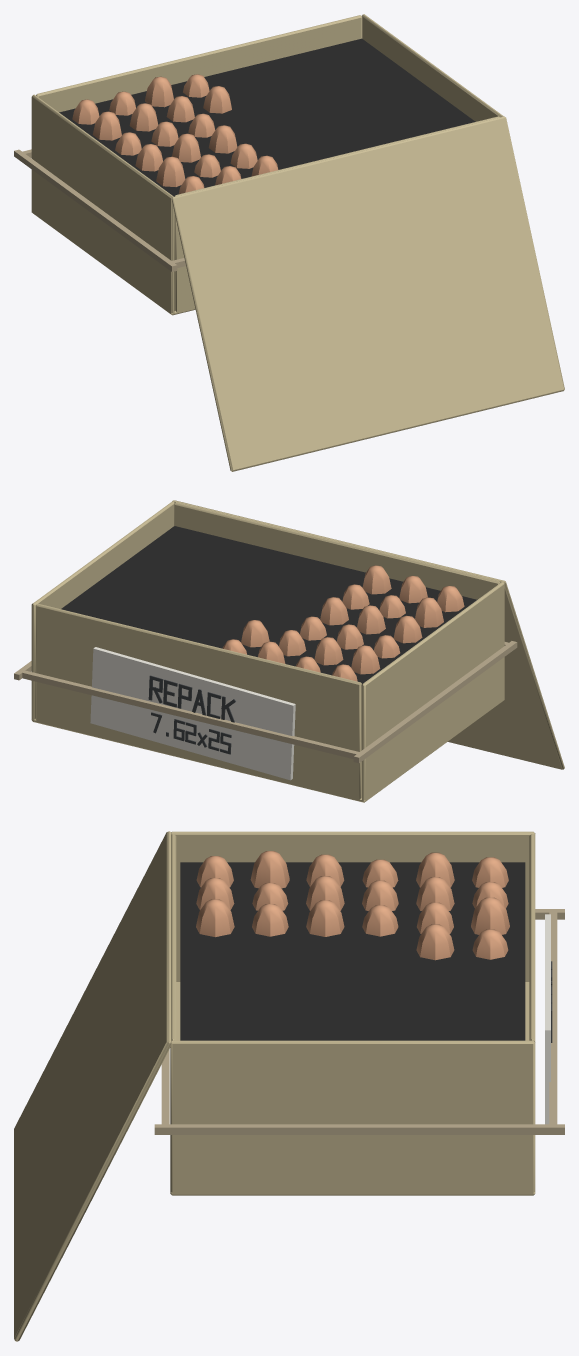
The model's file is ammo_762x25_repack.glb.
3 renders of one model, top to bottom at view 1: azimuth 30°, elevation 25°; view 2: azimuth 150°, elevation 25°; view 3: azimuth 270°, elevation 25°, orthographic. The views are drawn at different scales.
Visible parts, largest first — view 1: body; view 2: body; view 3: body.
Boxes of the visible parts, x1,y1,x2,y2 form: body: (14,14,564,471); body: (14,500,564,802); body: (14,831,564,1341).
Size of the model in its own units: 0.1034 by 0.067 by 0.1101.
